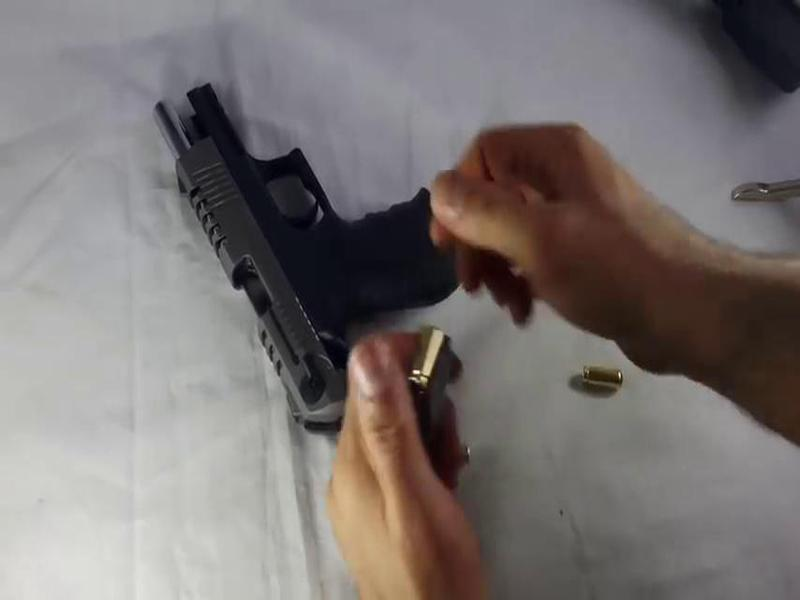Pistola: (140, 77, 459, 441)
